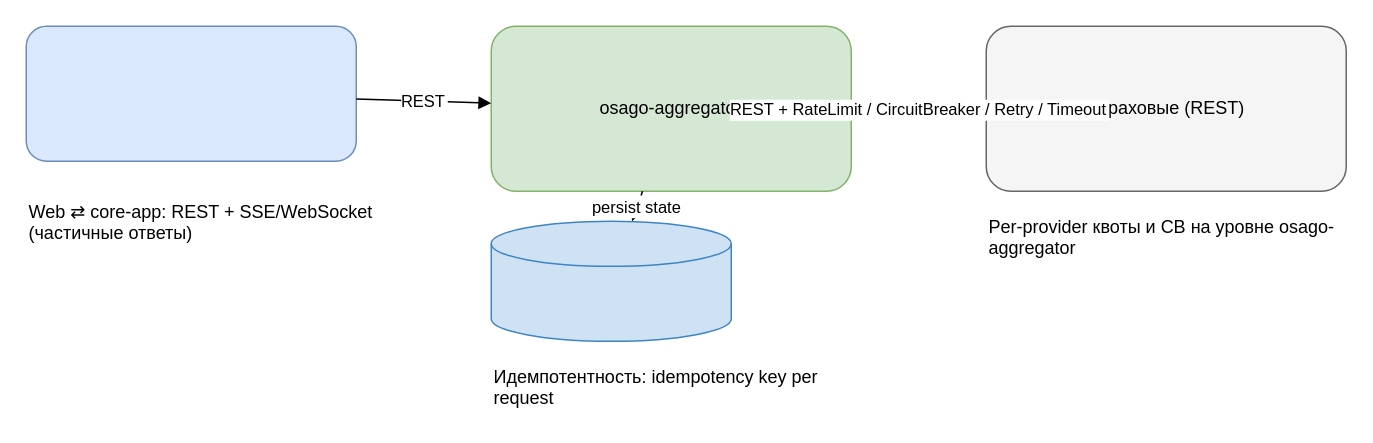
The diagram is 1373 pixels wide and 443 high, and some of its shapes have lost their labels. The centre of each missing label's shape, as x and y in pixels:
"core-app" belongs at point 190,93.
"OSAGO DB" belongs at point 610,280.
